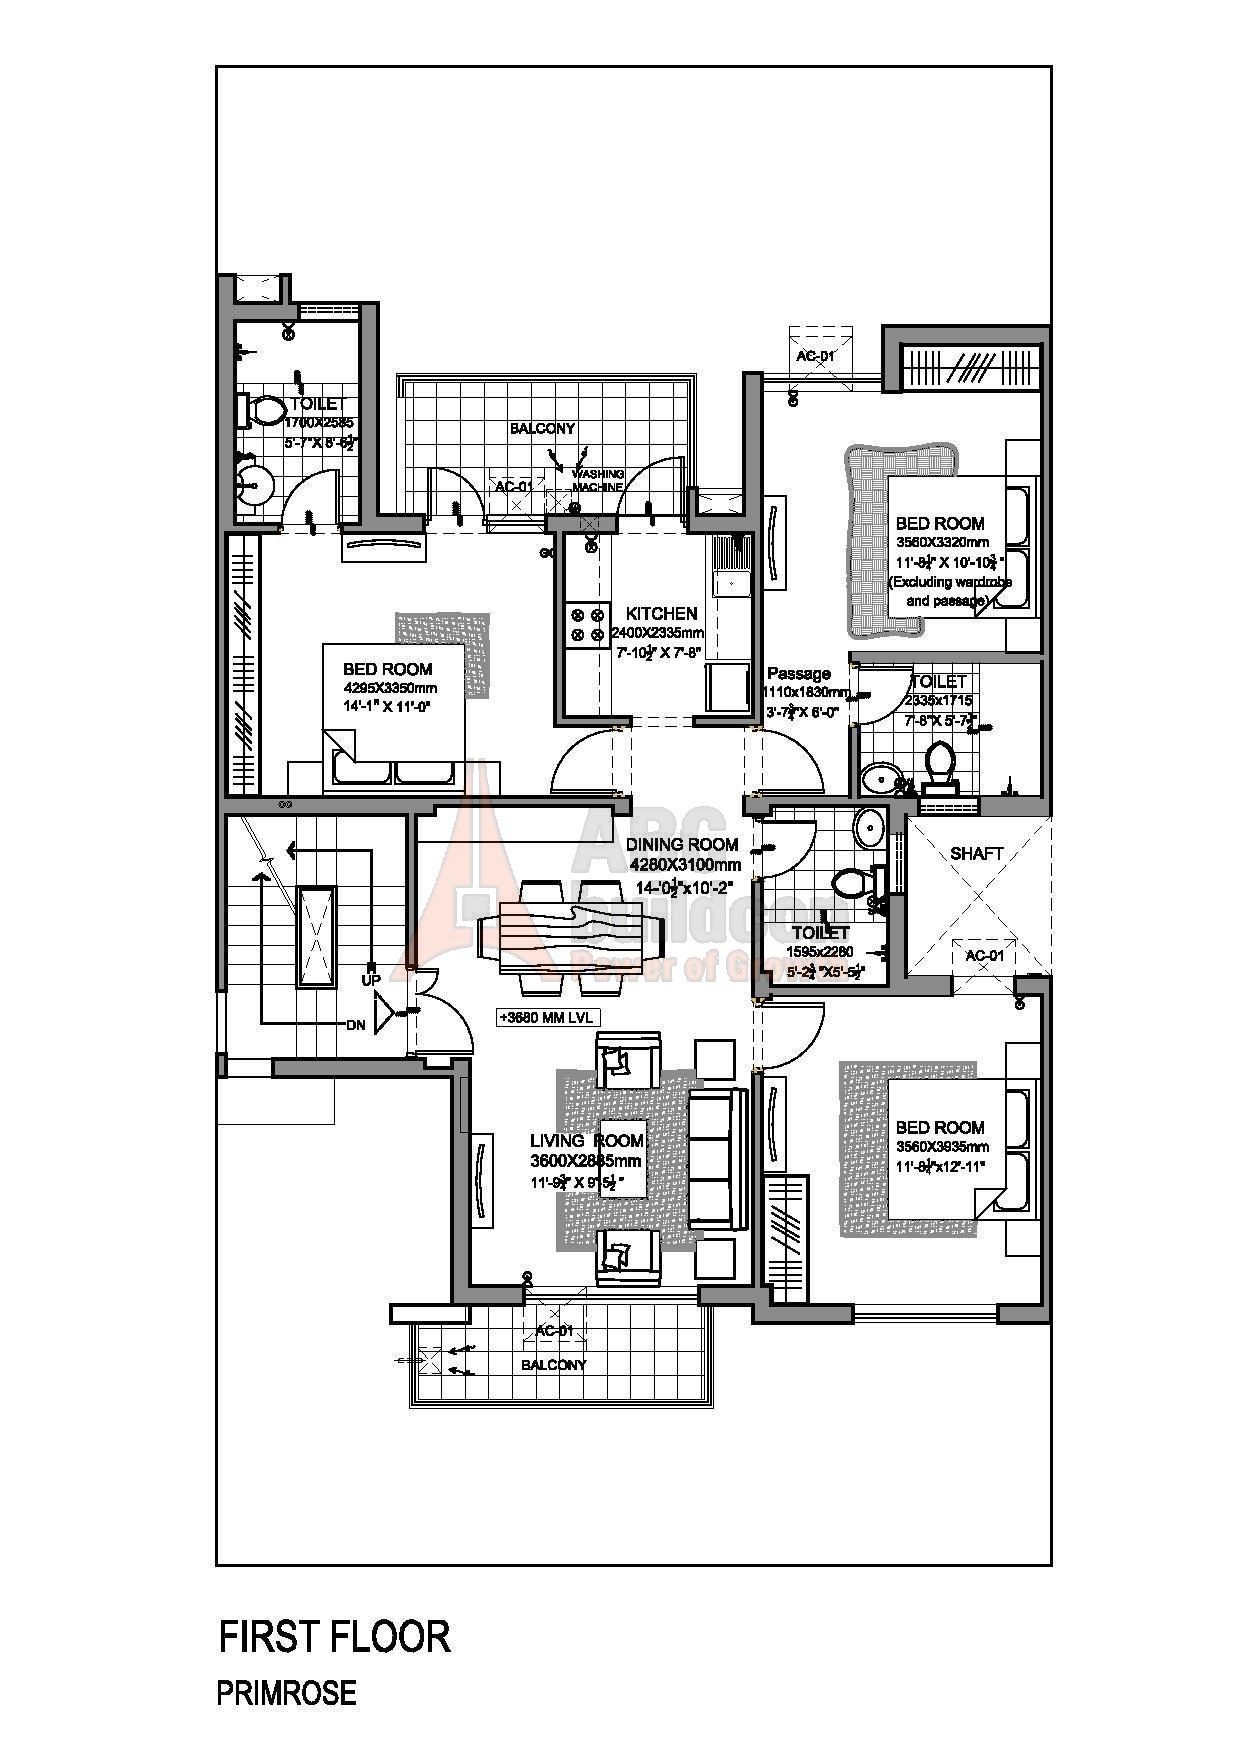wall: (215, 274, 234, 533), (360, 301, 378, 531), (217, 793, 411, 815), (450, 1075, 468, 1283), (213, 533, 228, 794), (1041, 344, 1052, 655), (884, 325, 1049, 344), (272, 1059, 450, 1075), (1041, 996, 1049, 1322), (743, 370, 760, 521), (215, 811, 228, 990), (849, 651, 1041, 663), (754, 1074, 764, 1286), (1040, 659, 1052, 815), (556, 531, 565, 726), (888, 892, 906, 996), (768, 1304, 854, 1325), (546, 514, 617, 534), (452, 1284, 523, 1304), (407, 796, 415, 970), (761, 984, 887, 994), (883, 323, 902, 395), (431, 796, 629, 803), (978, 796, 1044, 816), (756, 531, 762, 722), (752, 879, 761, 998), (698, 514, 761, 531), (745, 796, 851, 805), (906, 974, 951, 996), (235, 305, 299, 319), (374, 515, 425, 531), (849, 725, 859, 804), (752, 1286, 772, 1322), (997, 1304, 1039, 1322), (703, 1288, 752, 1303), (1017, 977, 1051, 994), (890, 796, 915, 819), (411, 794, 433, 819), (562, 718, 631, 725), (694, 717, 761, 723), (688, 488, 698, 531), (611, 797, 632, 816), (234, 525, 280, 531), (888, 816, 906, 833), (280, 276, 291, 303), (858, 796, 890, 804), (217, 1053, 228, 1076), (454, 1062, 470, 1075), (344, 522, 364, 531)
